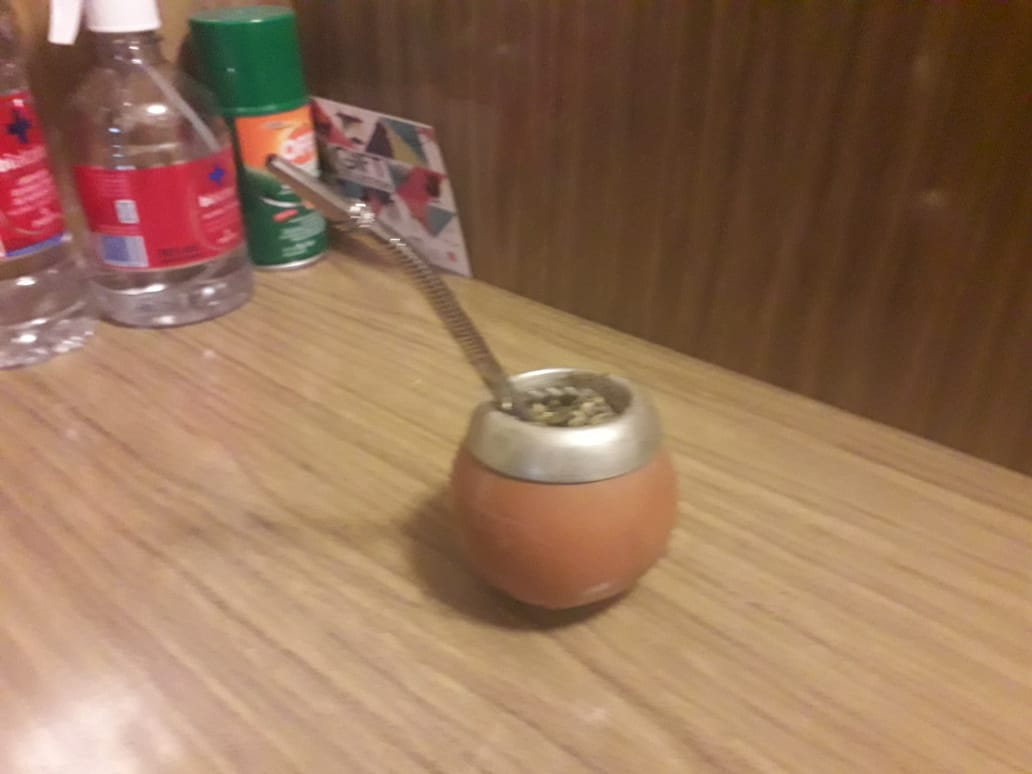calabaza: (258, 152, 684, 613)
mate: (260, 154, 686, 615)
